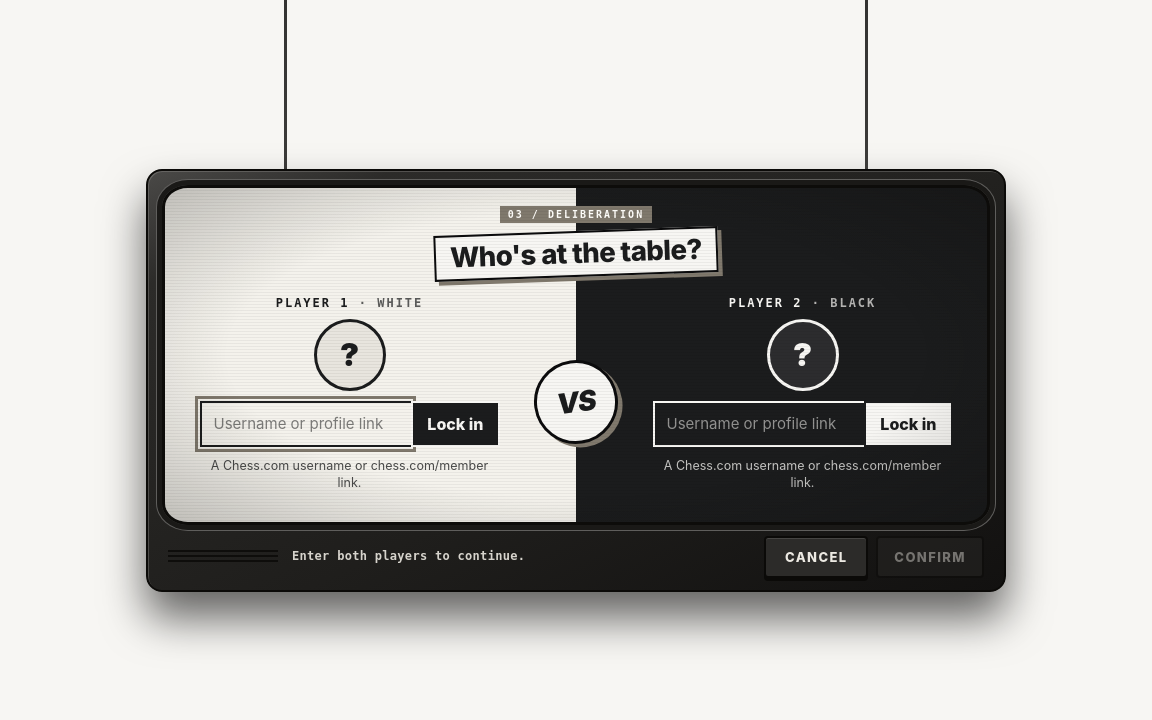
it: VS screen › lets a found player be changed
Step 1. Type "hikaru" into the field named "Player 1" → (305, 424), box [200, 400, 411, 446]
Then press Enter
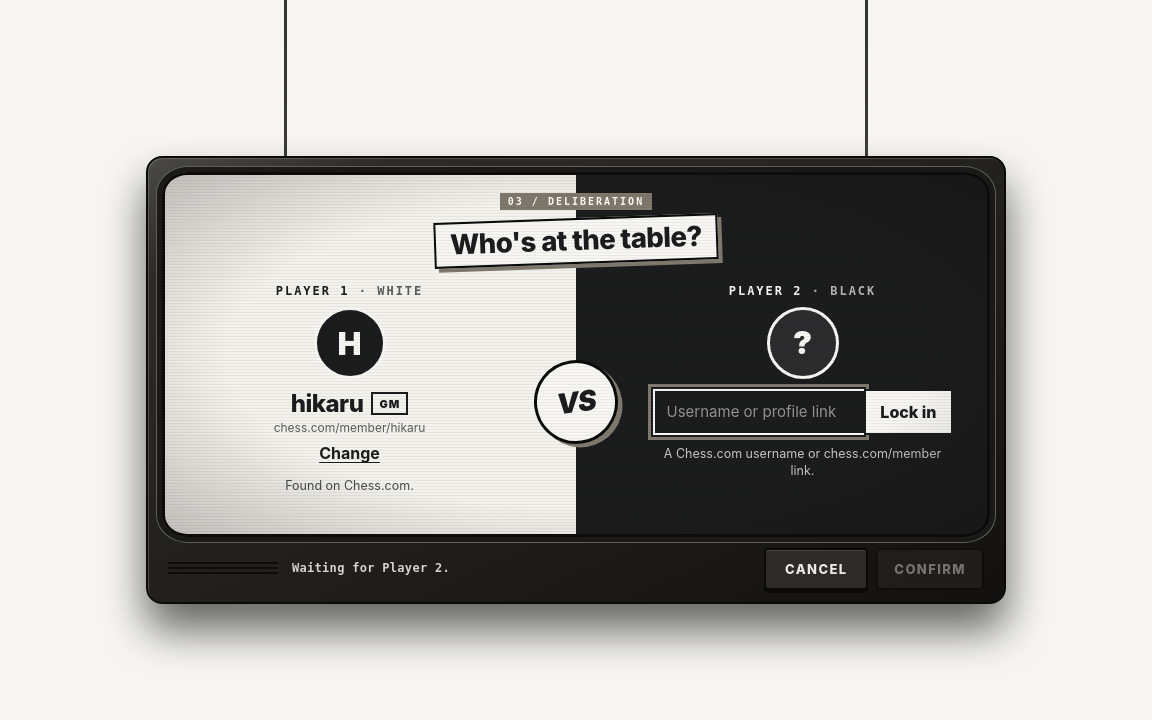
Step 2. Click the button with aria-label "Change Player 1" → click(349, 452), box [313, 438, 386, 466]
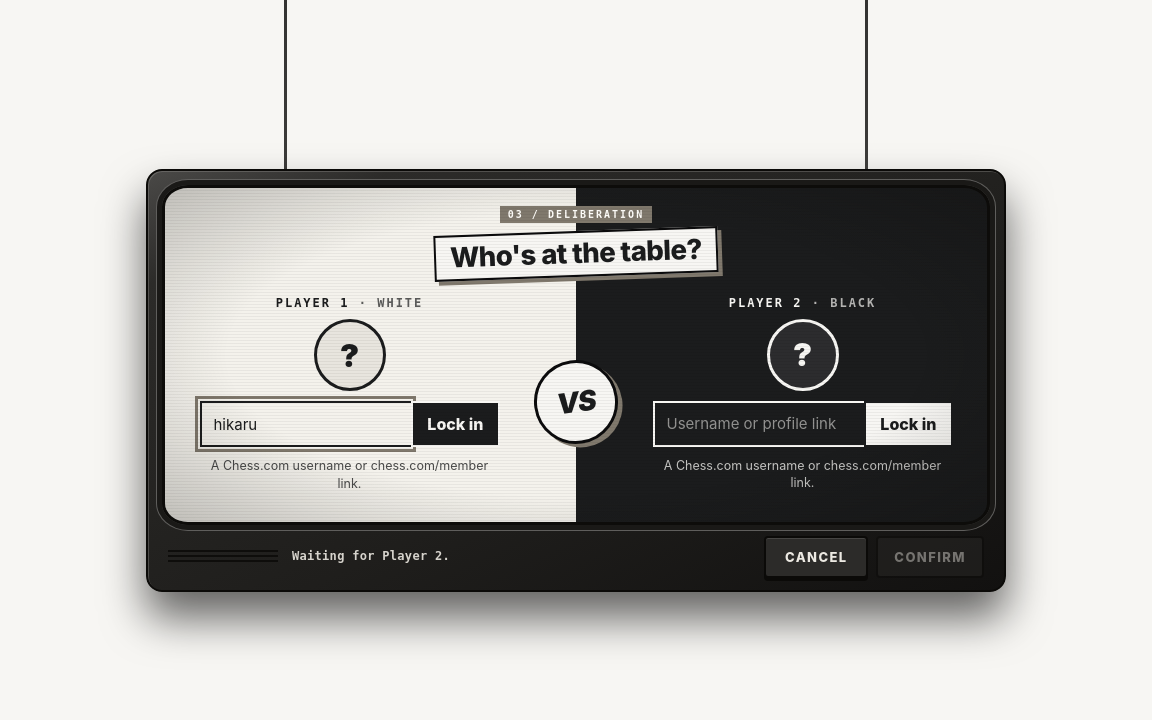
Result: the field named "Player 1" holds "hikaru" at [200, 400, 411, 446]
